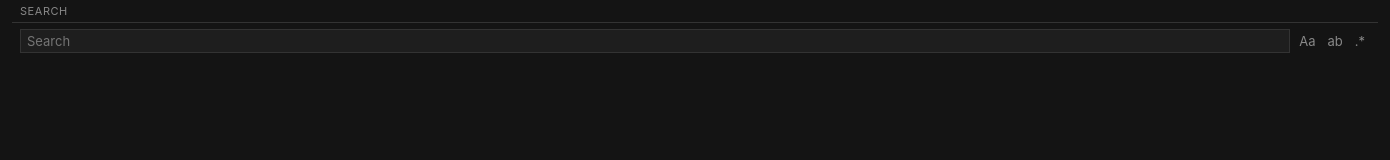
Test: SearchView › appends 'or more' to the count when truncated
In the field named "検索": (655, 41) [20,29,1290,53], type "foo"
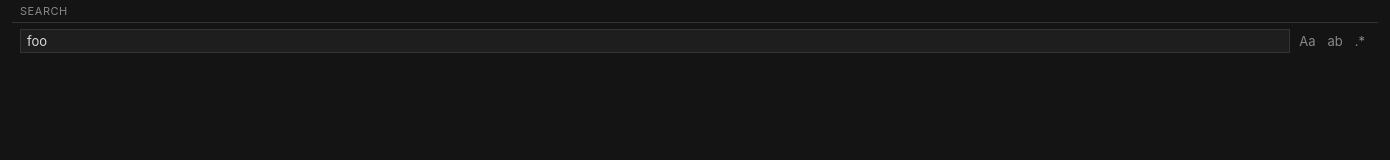
Press Enter in the field named "検索", box [20,29,1290,53]
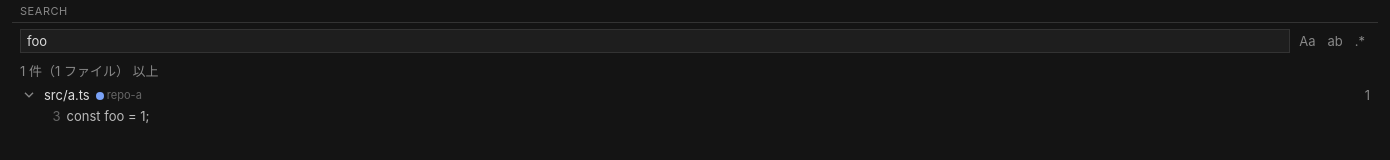
Expected: the text "1 件（1 ファイル） 以上" is shown, [20,63,158,79]
